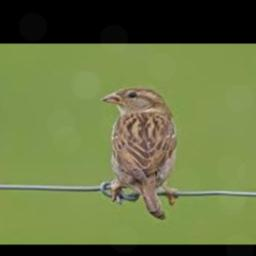Sparrow: (100, 85, 175, 218)
